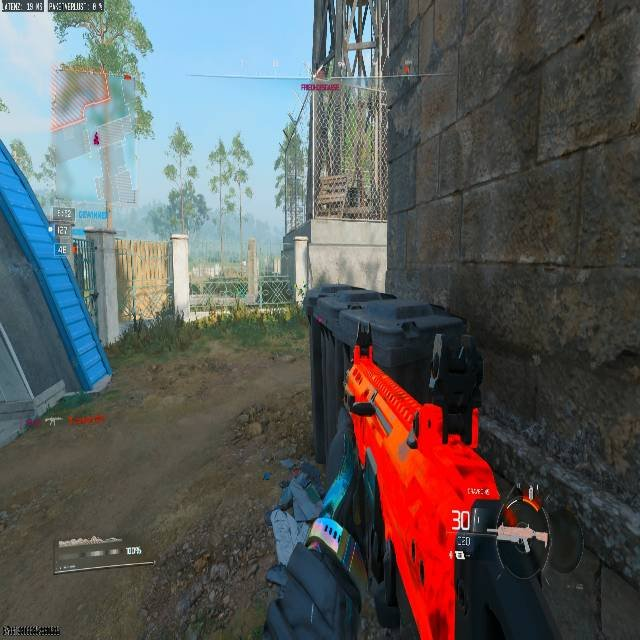player: (297, 281, 307, 308)
